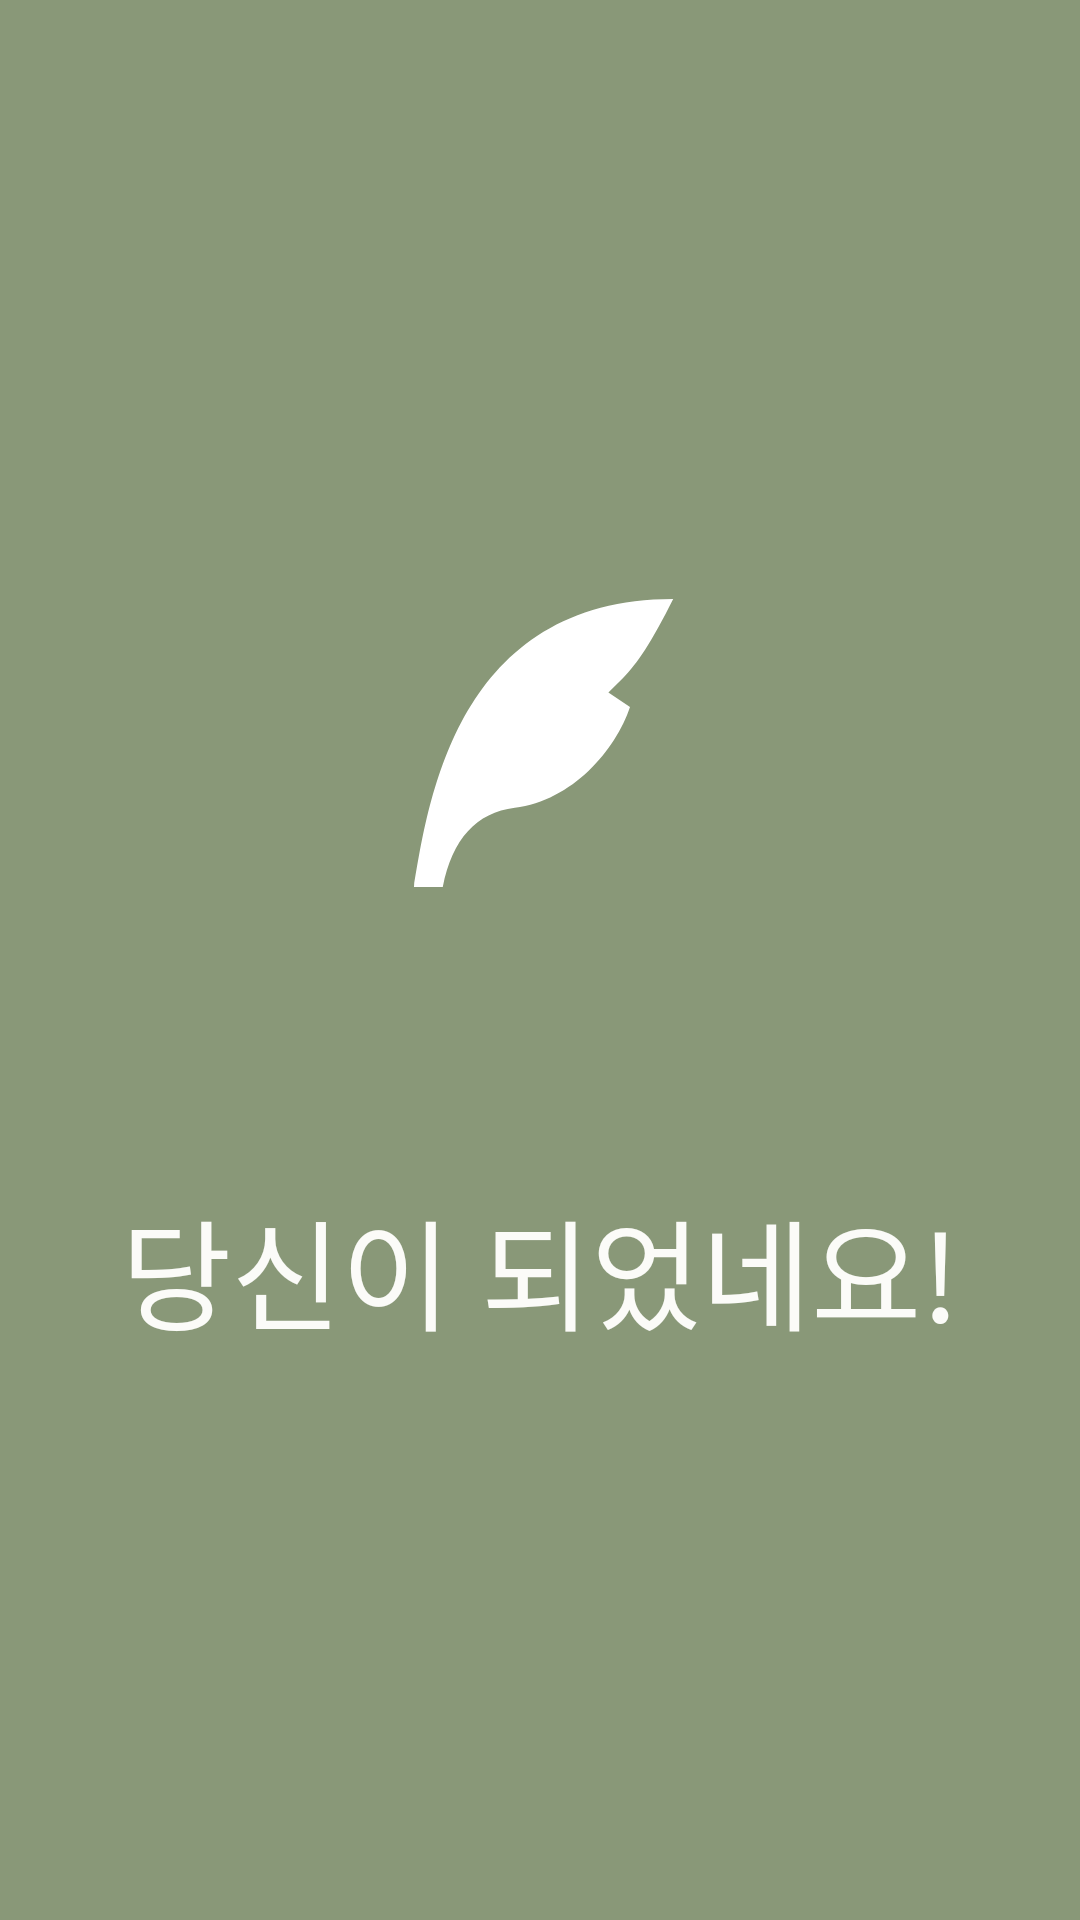

Icons on this 1080 × 1920 Android screen, each with the point to tap as (x,y):
feather: (543,743)
